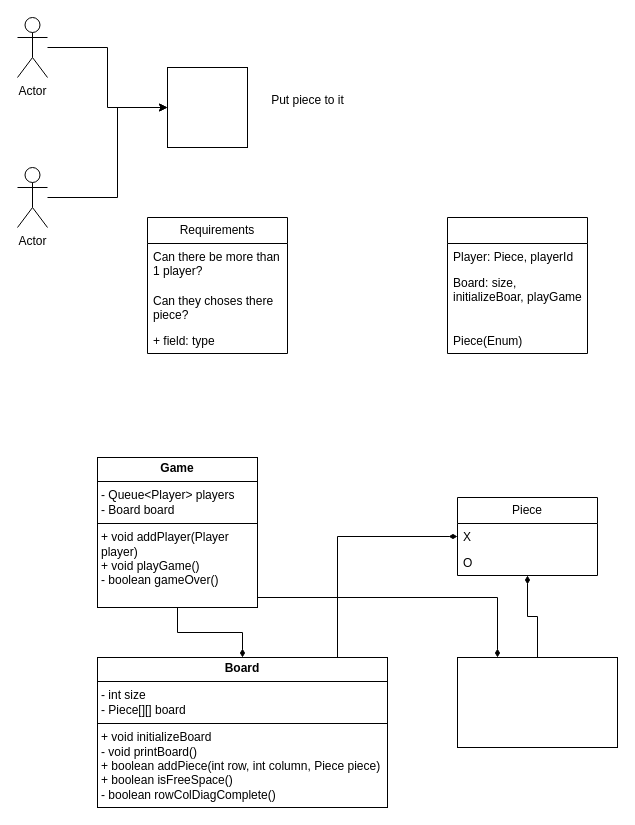
Some shapes in this 635 by 825 pixel diagram are drawn without their labels. Each missing label, with the box of its shape:
Board: (166, 66, 248, 148)
Objects: (446, 216, 588, 354)
Player - int playerId - Piece piece + method(): Type: (456, 656, 618, 748)
